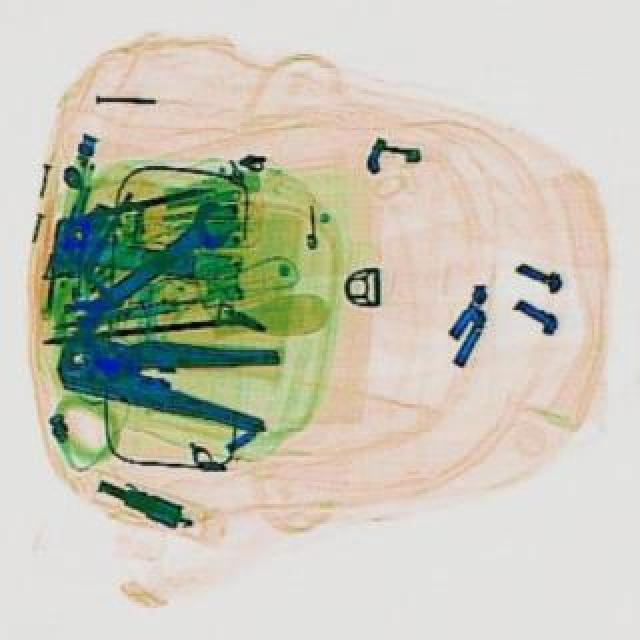scissors: (52, 192, 244, 342)
wrench: (50, 314, 280, 430)
